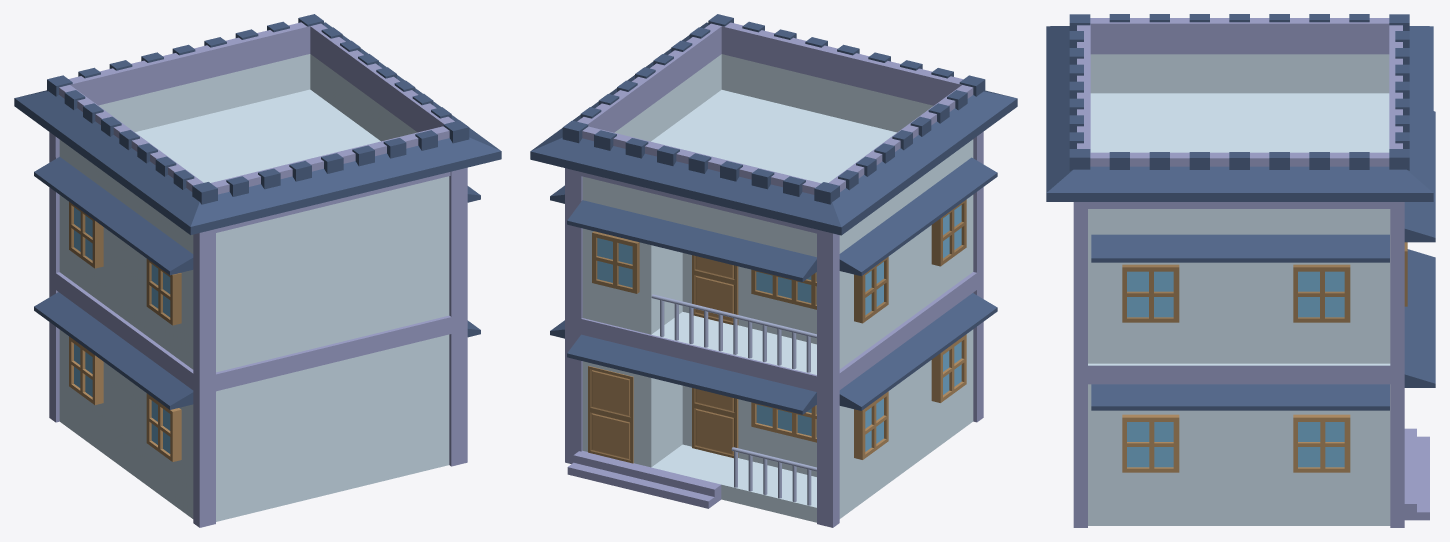
The model's file is Blue Building Full.fbx.
The picture shows the model from 3 angles, left to right: view 1: azimuth 30°, elevation 25°; view 2: azimuth 150°, elevation 25°; view 3: azimuth 270°, elevation 25°; orthographic projection. The views are drawn at different scales.
Parts seen in each view (by area): view 1: Cube.072, Cube.071, Cube.073; view 2: Cube.072, Cube.071, Cube.073; view 3: Cube.072, Cube.073, Cube.071.
Boxes of the visible parts, bbox=[...] form: Cube.072: bbox=[14, 14, 501, 262]; Cube.071: bbox=[34, 153, 480, 395]; Cube.073: bbox=[34, 285, 480, 527]; Cube.072: bbox=[530, 14, 1017, 262]; Cube.071: bbox=[550, 152, 997, 394]; Cube.073: bbox=[550, 285, 997, 527]; Cube.072: bbox=[1046, 14, 1433, 236]; Cube.073: bbox=[1073, 249, 1435, 527]; Cube.071: bbox=[1073, 111, 1435, 384].
Size of the model in its own units: 958 by 990 by 943.
